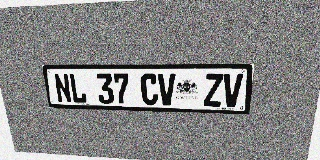3: (96, 74, 114, 104)
7: (112, 74, 130, 104)
C: (140, 74, 158, 105)
L: (69, 74, 87, 103)
N: (53, 73, 72, 103)
V: (222, 74, 243, 107), (158, 74, 175, 106)
Z: (204, 74, 223, 107)
